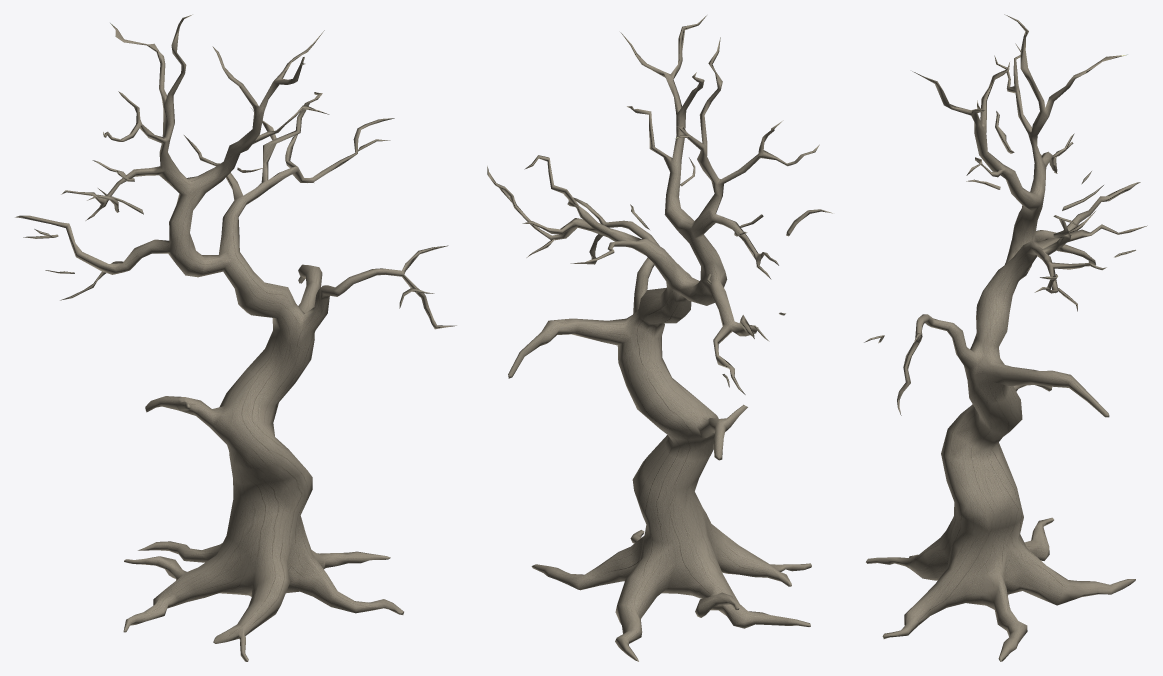
Rendered from tree-dead.glb.
3 views of the same model, side by side, from view 1: azimuth 30°, elevation 25°; view 2: azimuth 150°, elevation 25°; view 3: azimuth 270°, elevation 25° (orthographic). The views are drawn at different scales.
Size of the model in its own units: 0.5914 by 1 by 0.4629.
1 material, 1 textured.
